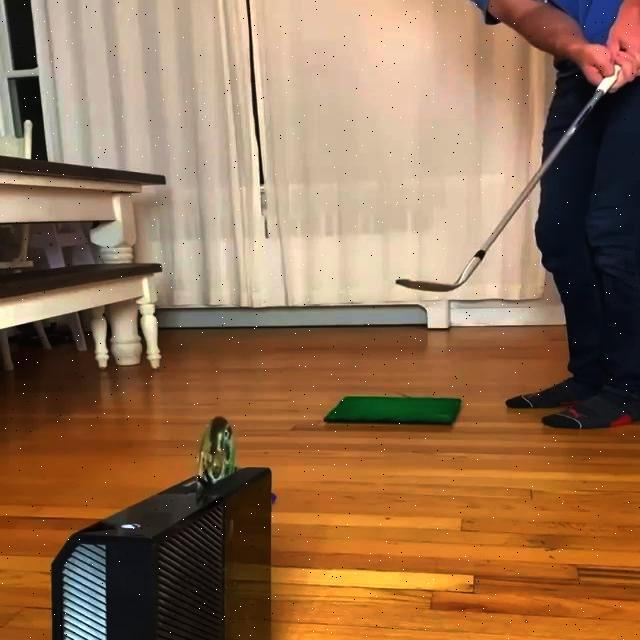ClubHead: (397, 277, 453, 295)
